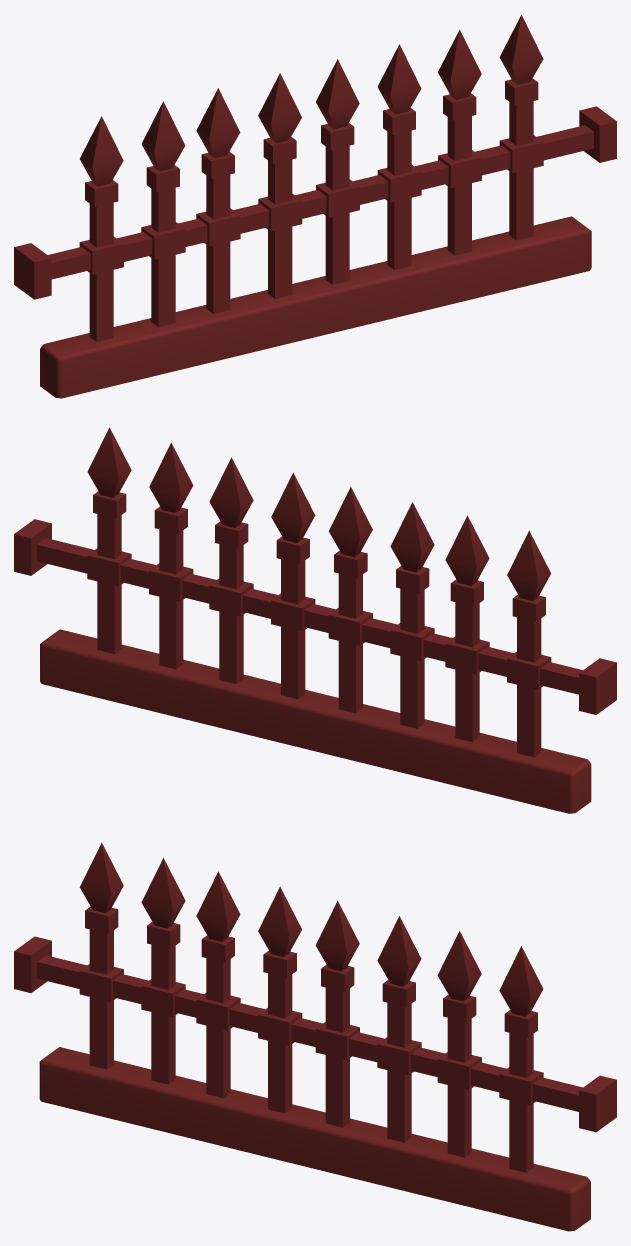
The model's file is Fence_231109.glb.
3 renders of one model, top to bottom at view 1: azimuth 30°, elevation 25°; view 2: azimuth 150°, elevation 25°; view 3: azimuth 330°, elevation 25°, orthographic.
Parts seen in each view (by area): view 1: Fence; view 2: Fence; view 3: Fence.
Part boxes in pixels (x1,y1,x2,y2): Fence: [14, 15, 616, 398]; Fence: [14, 427, 616, 813]; Fence: [14, 843, 616, 1231].
Size of the model in its own units: 2.89 by 1.25 by 0.1888.
1 material, 1 textured.
